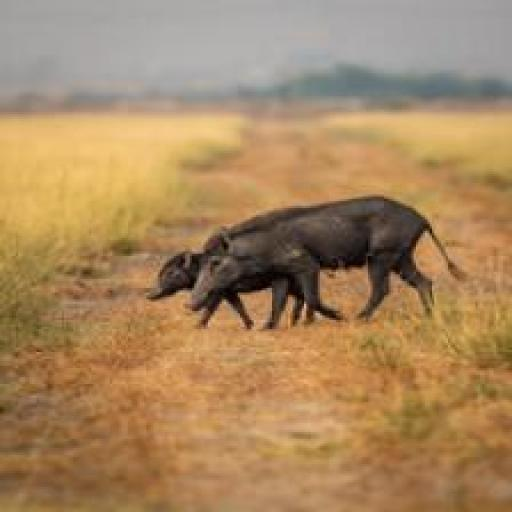Pig: (187, 190, 472, 342)
